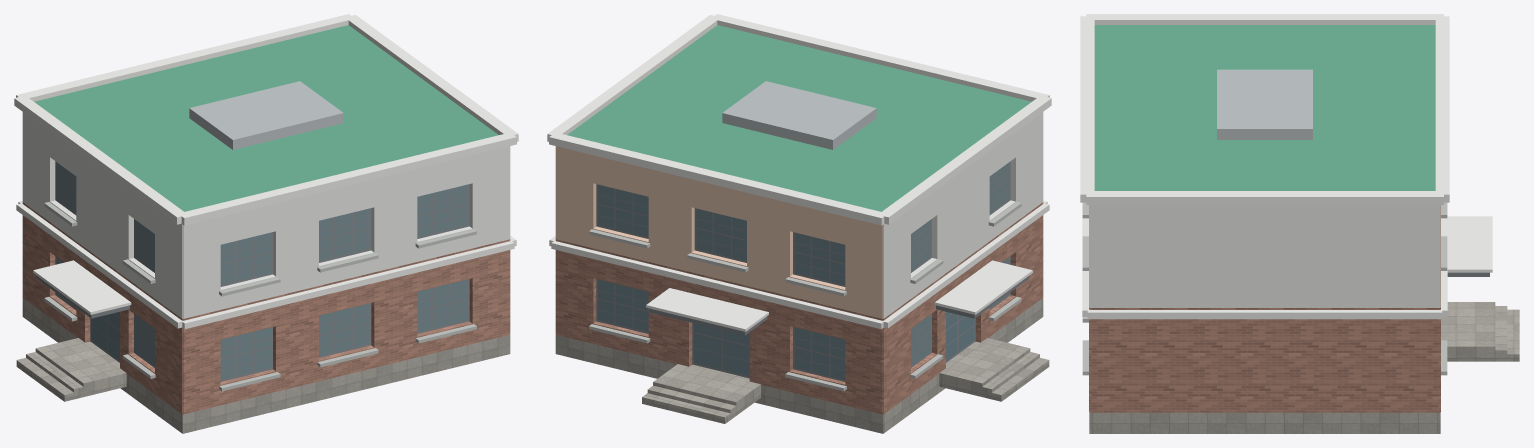
3 views of the same model, side by side, from view 1: azimuth 30°, elevation 25°; view 2: azimuth 150°, elevation 25°; view 3: azimuth 270°, elevation 25° (orthographic). The views are drawn at different scales.
Parts seen in each view (by area): view 1: cafeteria-wing__canopy, cafeteria-wing__panel, cafeteria-wing__brick, cafeteria-wing__cap, cafeteria-wing__sideglass, cafeteria-wing__stone, cafeteria-wing__steel, cafeteria-wing__frame, cafeteria-wing__sill, cafeteria-wing__stair-north-courtyard, cafeteria-wing__threshold-north-courtyard, cafeteria-wing__glass; view 2: cafeteria-wing__canopy, cafeteria-wing__brick, cafeteria-wing__cap, cafeteria-wing__basepaint, cafeteria-wing__glass, cafeteria-wing__panel, cafeteria-wing__stone, cafeteria-wing__steel, cafeteria-wing__frame, cafeteria-wing__sill, cafeteria-wing__stair-front, cafeteria-wing__stair-north-courtyard (+4 smaller); view 3: cafeteria-wing__canopy, cafeteria-wing__panel, cafeteria-wing__brick, cafeteria-wing__cap, cafeteria-wing__stone, cafeteria-wing__steel, cafeteria-wing__threshold-front, cafeteria-wing__stair-front, cafeteria-wing__sill.
Part boxes in pixels (x1=…): cafeteria-wing__canopy: x1=34, y1=25, x2=498, y2=211; cafeteria-wing__panel: x1=22, y1=112, x2=510, y2=318; cafeteria-wing__brick: x1=22, y1=202, x2=510, y2=414; cafeteria-wing__cap: x1=14, y1=14, x2=518, y2=329; cafeteria-wing__sideglass: x1=56, y1=162, x2=467, y2=379; cafeteria-wing__stone: x1=22, y1=298, x2=510, y2=433; cafeteria-wing__steel: x1=189, y1=81, x2=343, y2=149; cafeteria-wing__frame: x1=55, y1=161, x2=469, y2=381; cafeteria-wing__sill: x1=44, y1=202, x2=476, y2=391; cafeteria-wing__stair-north-courtyard: x1=16, y1=346, x2=93, y2=401; cafeteria-wing__threshold-north-courtyard: x1=45, y1=338, x2=126, y2=394; cafeteria-wing__glass: x1=91, y1=312, x2=119, y2=360; cafeteria-wing__canopy: x1=567, y1=25, x2=1031, y2=211; cafeteria-wing__brick: x1=555, y1=202, x2=1043, y2=414; cafeteria-wing__cap: x1=547, y1=14, x2=1051, y2=331; cafeteria-wing__basepaint: x1=556, y1=146, x2=882, y2=318; cafeteria-wing__glass: x1=598, y1=184, x2=974, y2=379; cafeteria-wing__panel: x1=555, y1=112, x2=1043, y2=318; cafeteria-wing__stone: x1=555, y1=298, x2=1043, y2=433; cafeteria-wing__steel: x1=722, y1=81, x2=876, y2=149; cafeteria-wing__frame: x1=596, y1=161, x2=1010, y2=381; cafeteria-wing__sill: x1=589, y1=202, x2=1021, y2=391; cafeteria-wing__stair-front: x1=642, y1=378, x2=741, y2=423; cafeteria-wing__stair-north-courtyard: x1=972, y1=346, x2=1049, y2=401; cafeteria-wing__canopy: x1=1094, y1=25, x2=1435, y2=190; cafeteria-wing__panel: x1=1089, y1=205, x2=1440, y2=307; cafeteria-wing__brick: x1=1089, y1=307, x2=1440, y2=412; cafeteria-wing__cap: x1=1080, y1=14, x2=1492, y2=319; cafeteria-wing__stone: x1=1089, y1=412, x2=1440, y2=433; cafeteria-wing__steel: x1=1217, y1=69, x2=1312, y2=139; cafeteria-wing__threshold-front: x1=1441, y1=302, x2=1482, y2=361; cafeteria-wing__stair-front: x1=1483, y1=302, x2=1519, y2=361; cafeteria-wing__sill: x1=1082, y1=202, x2=1447, y2=375.
Bounding box in the file's own units: 15.75 × 8.53 × 13.75.
13 materials, 2 textured.
